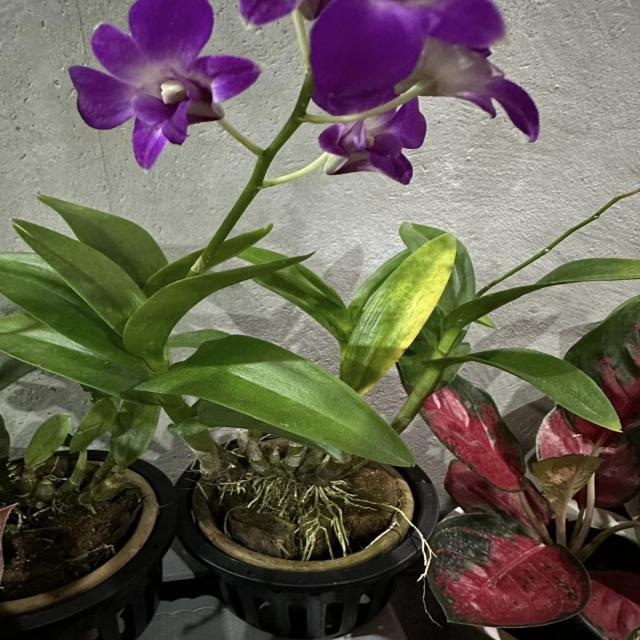flower: (74, 1, 257, 167), (320, 93, 426, 182)
leaf: (149, 334, 413, 467), (125, 254, 342, 361), (346, 227, 456, 382), (13, 220, 143, 333), (454, 257, 639, 327), (461, 347, 620, 428), (47, 198, 167, 287), (0, 327, 150, 396), (21, 413, 72, 474)
pot: (166, 431, 446, 639), (1, 441, 190, 639), (395, 465, 607, 639)
